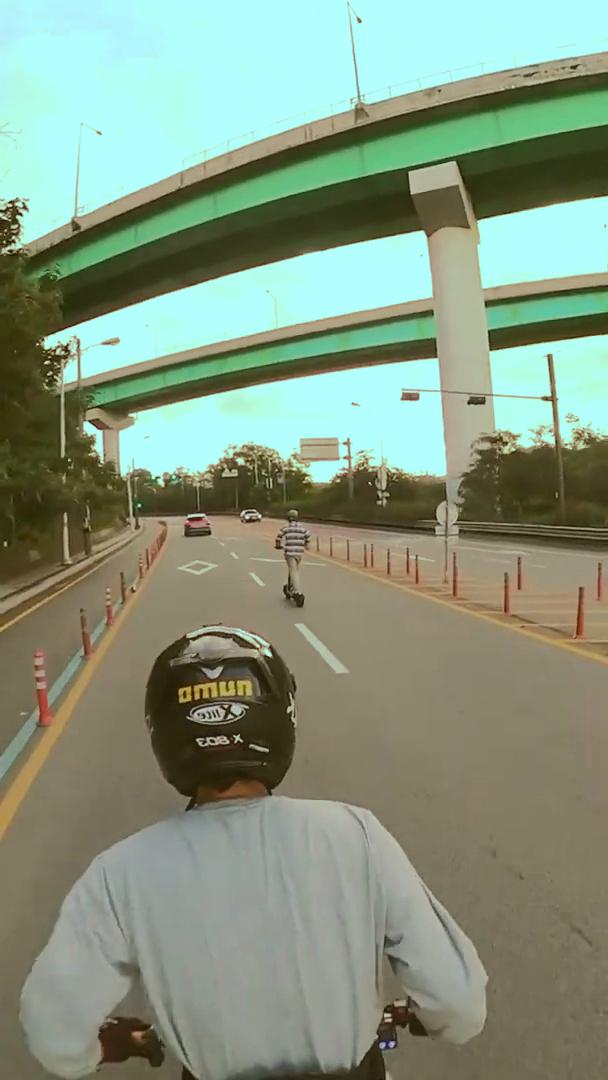helmet: (273, 508, 313, 610)
